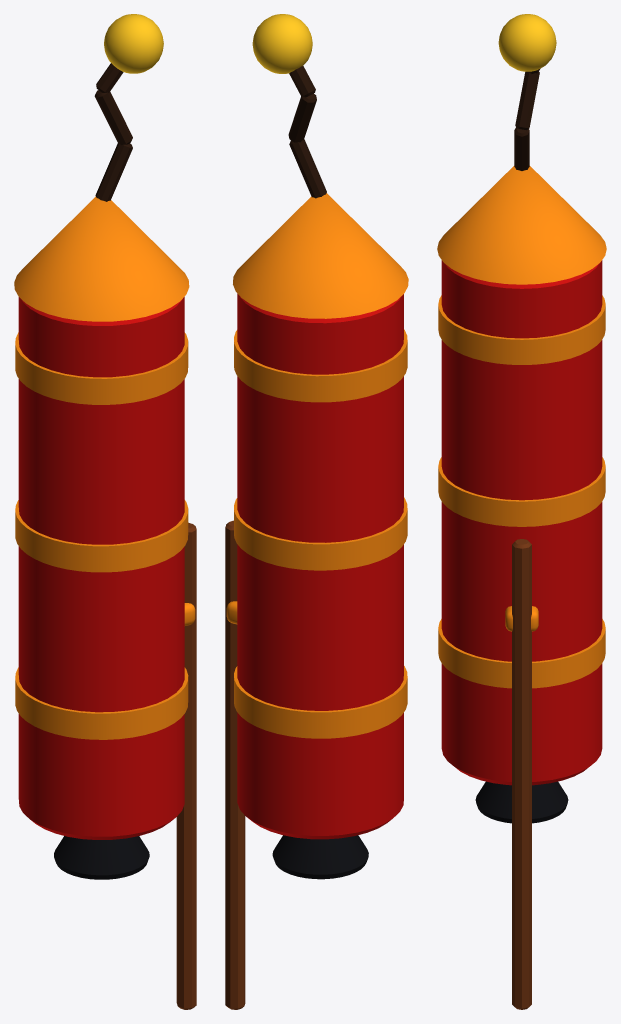
The model's file is Rocket_01_Firecracker.obj.
3 renders of one model, left to right at view 1: azimuth 30°, elevation 25°; view 2: azimuth 150°, elevation 25°; view 3: azimuth 270°, elevation 25°, orthographic. The views are drawn at different scales.
Parts seen in each view (by area): view 1: R01_Body, R01_Cap, R01_Stick, R01_Band_2, R01_Band, R01_Band_3, R01_Nozzle, R01_Spark, R01_Fuse, R01_Fuse_2, R01_Fuse_3; view 2: R01_Body, R01_Cap, R01_Stick, R01_Band_2, R01_Band_3, R01_Band, R01_Nozzle, R01_Spark, R01_Fuse, R01_Fuse_2, R01_Fuse_3; view 3: R01_Body, R01_Cap, R01_Stick, R01_Band_2, R01_Band_3, R01_Band, R01_Spark, R01_Nozzle, R01_Fuse_2, R01_Fuse.
Boxes of the visible parts, left/top/right/bottom form: R01_Body: left=18, top=297, right=184, bottom=839; R01_Cap: left=14, top=196, right=189, bottom=321; R01_Stick: left=176, top=522, right=196, bottom=1009; R01_Band_2: left=15, top=500, right=188, bottom=572; R01_Band: left=15, top=667, right=188, bottom=739; R01_Band_3: left=15, top=332, right=188, bottom=404; R01_Nozzle: left=54, top=836, right=149, bottom=879; R01_Spark: left=104, top=14, right=163, bottom=73; R01_Fuse: left=95, top=143, right=132, bottom=201; R01_Fuse_2: left=94, top=90, right=132, bottom=145; R01_Fuse_3: left=96, top=63, right=123, bottom=92; R01_Body: left=237, top=293, right=403, bottom=839; R01_Cap: left=233, top=193, right=408, bottom=318; R01_Stick: left=225, top=520, right=245, bottom=1009; R01_Band_2: left=234, top=497, right=407, bottom=570; R01_Band_3: left=234, top=329, right=407, bottom=402; R01_Band: left=234, top=666, right=407, bottom=738; R01_Nozzle: left=272, top=835, right=368, bottom=879; R01_Spark: left=252, top=14, right=312, bottom=73; R01_Fuse: left=289, top=139, right=326, bottom=198; R01_Fuse_2: left=288, top=93, right=316, bottom=142; R01_Fuse_3: left=289, top=66, right=315, bottom=97; R01_Body: left=441, top=260, right=602, bottom=785; R01_Cap: left=437, top=166, right=606, bottom=284; R01_Stick: left=512, top=539, right=531, bottom=1009; R01_Band_2: left=438, top=457, right=605, bottom=526; R01_Band_3: left=438, top=295, right=605, bottom=364; R01_Band: left=438, top=619, right=605, bottom=688; R01_Spark: left=498, top=14, right=556, bottom=71; R01_Nozzle: left=475, top=781, right=568, bottom=823; R01_Fuse_2: left=515, top=71, right=539, bottom=130; R01_Fuse: left=514, top=127, right=529, bottom=170.
Size of the model in its own units: 1.7 by 9.56 by 1.52.
